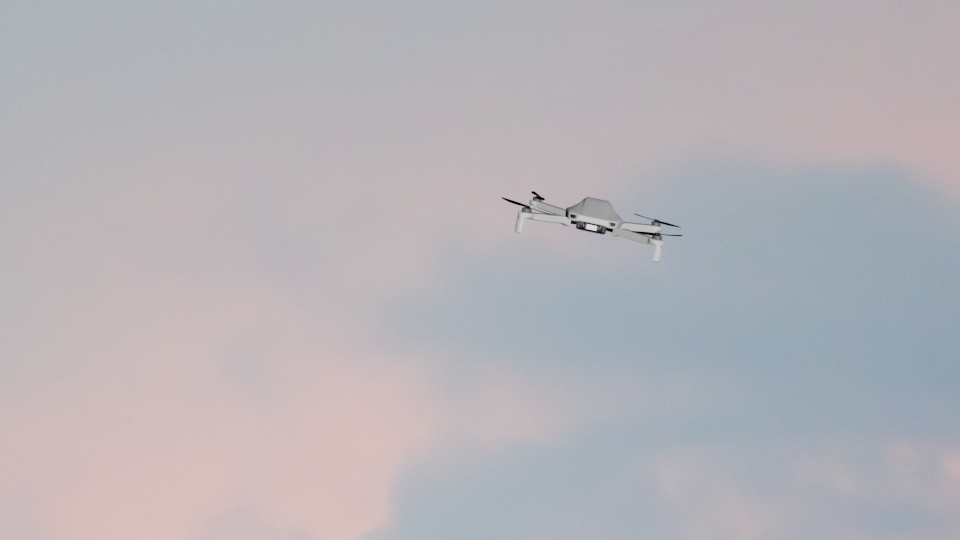drone: (505, 189, 689, 261)
